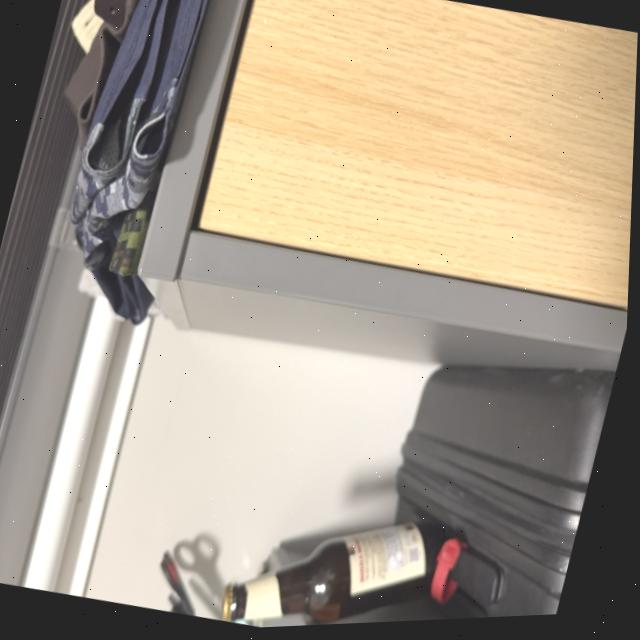beer: (218, 475, 465, 632)
